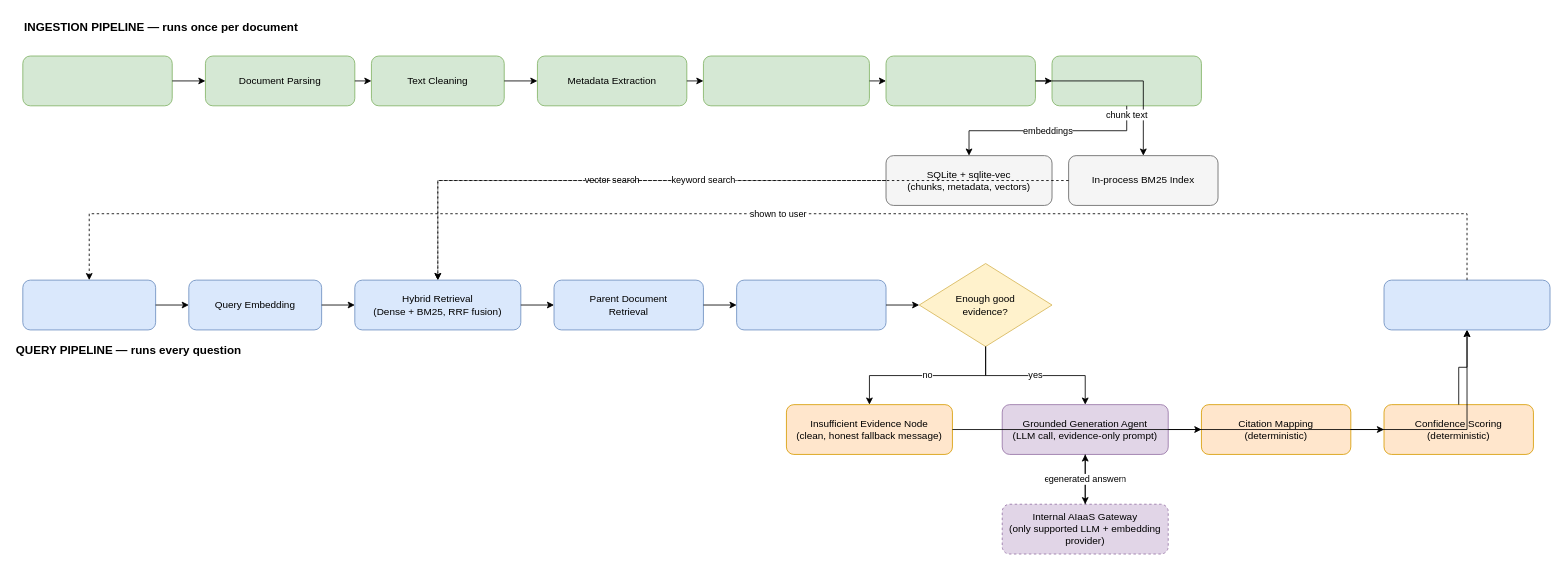
The diagram is 1565 pixels wide and 569 high, and some of its shapes have lost their labels. Each missing label, with the centre of its shape:
Cross-Encoder Reranking: the point at 811,304
Dedup + Versioning (content hash): the point at 960,80
Embedding Generation (MiniLM): the point at 1126,80
Knowledge Source Folder (.md / .pdf): the point at 97,80
Parent-Child + Semantic Chunking (with overlap): the point at 786,80
Respond Node → Final Answer + Citations + Confidence: the point at 1466,304
User types a question (Chat UI): the point at 89,304
